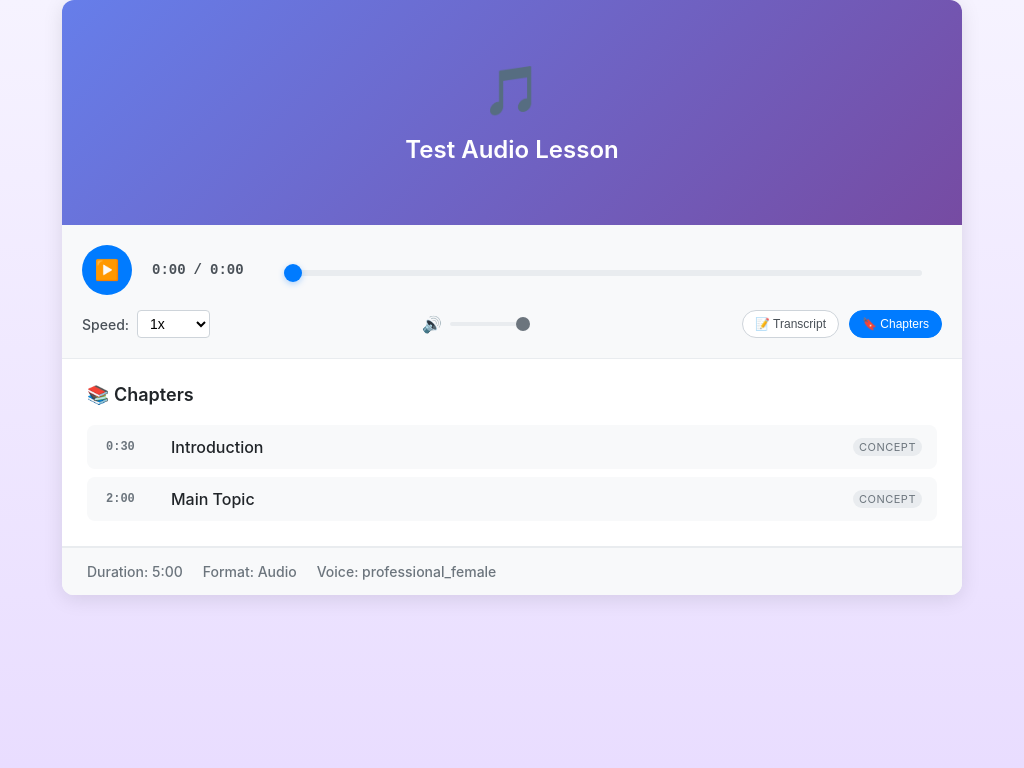
MultimediaPlayer › Audio Player › should toggle transcript visibility
The image size is (1024, 768).
What coordinates should you click on to do the following:
click the button "📝 Transcript"
I would click on:
 (790, 324)
Its box is [742,310,839,338].
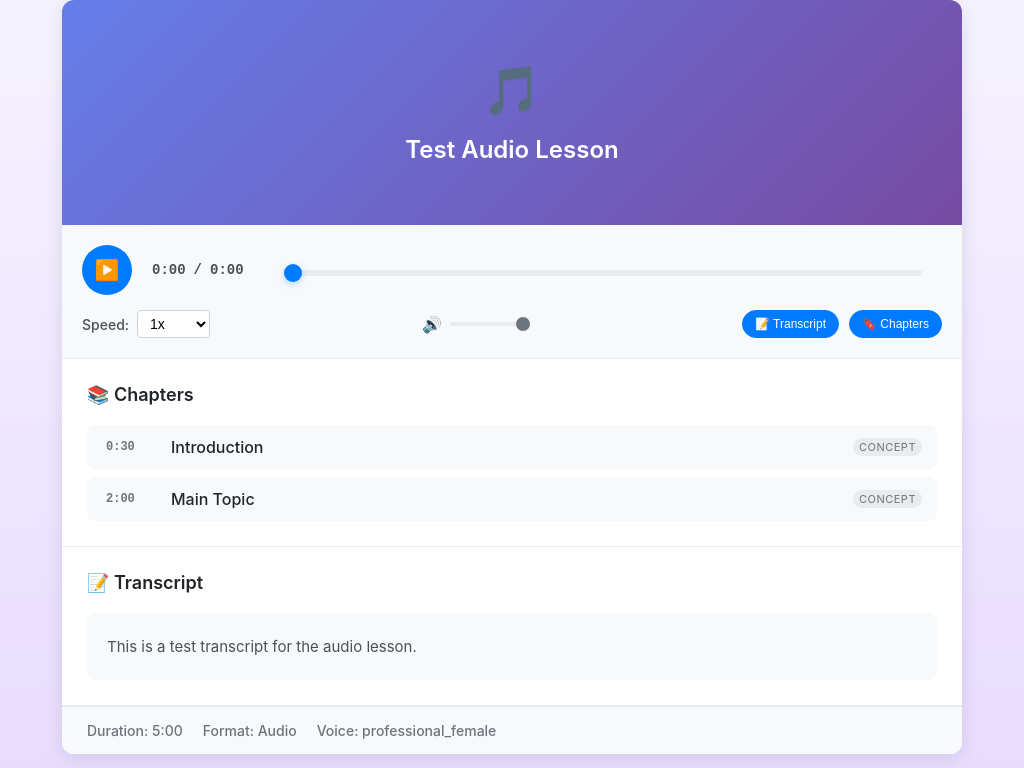
expect the text "This is a test transcript for the audio lesson." is shown: met, box [87,613,937,680]
